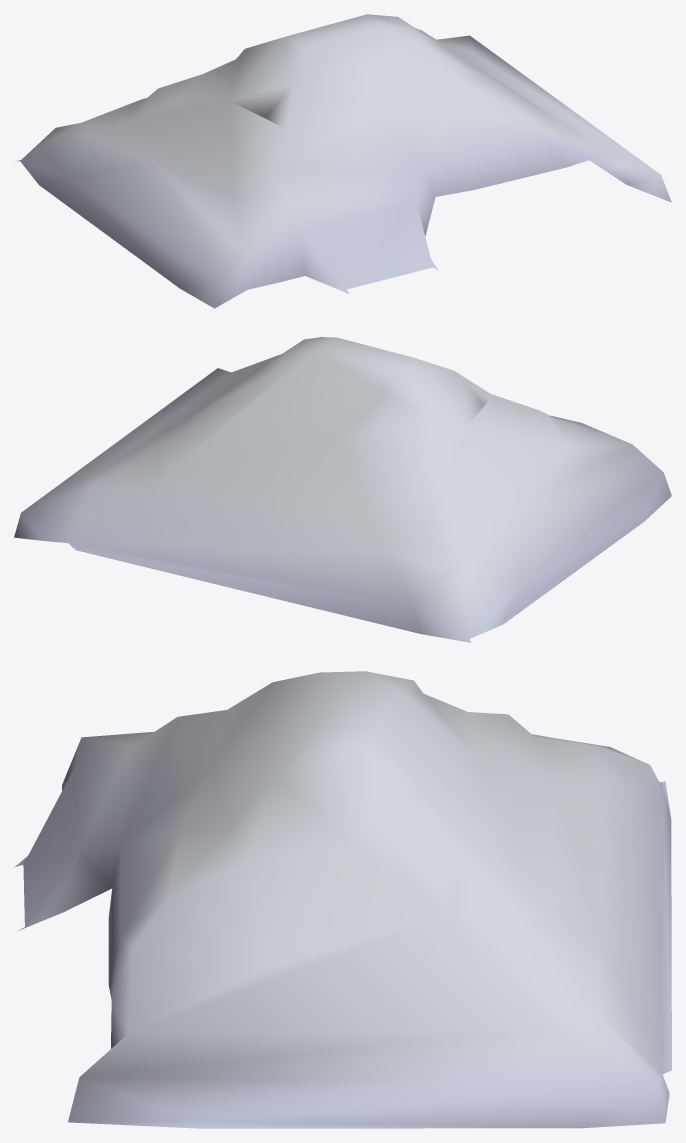
Rendered from tollbooth.snow.glb.
3 renders of one model, top to bottom at view 1: azimuth 30°, elevation 25°; view 2: azimuth 150°, elevation 25°; view 3: azimuth 270°, elevation 25°, orthographic. The views are drawn at different scales.
Visible parts, largest first — view 1: snow; view 2: snow; view 3: snow.
Boxes of the visible parts, box(x1,y1,x2,y2) form: snow: box(15, 14, 671, 308); snow: box(14, 337, 671, 642); snow: box(14, 671, 671, 1128).
Size of the model in its own units: 2.2 by 0.7592 by 1.81.
